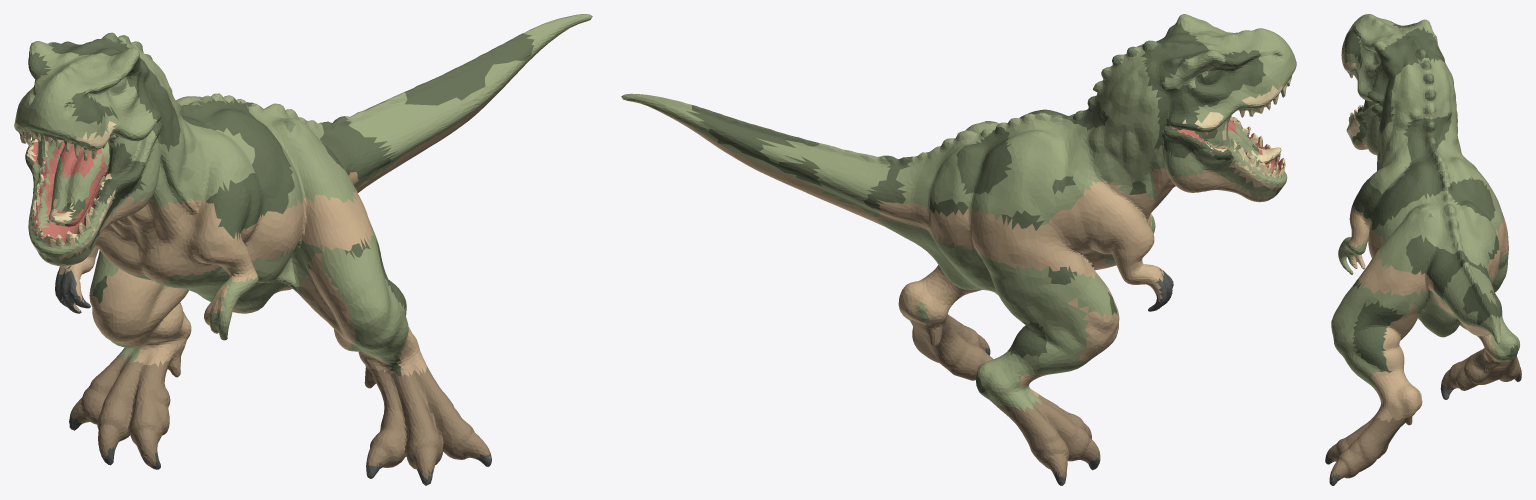
The model's file is tiranossauro_rex.glb.
3 renders of one model, left to right at view 1: azimuth 30°, elevation 25°; view 2: azimuth 150°, elevation 25°; view 3: azimuth 270°, elevation 25°, orthographic. The views are drawn at different scales.
Parts seen in each view (by area): view 1: tmpbxzq1ezp.ply; view 2: tmpbxzq1ezp.ply; view 3: tmpbxzq1ezp.ply.
Boxes of the visible parts, bbox=[...] form: tmpbxzq1ezp.ply: bbox=[14, 14, 592, 485]; tmpbxzq1ezp.ply: bbox=[621, 14, 1296, 485]; tmpbxzq1ezp.ply: bbox=[1325, 14, 1521, 485].
Size of the model in its own units: 2.5 by 1.72 by 0.9191.
